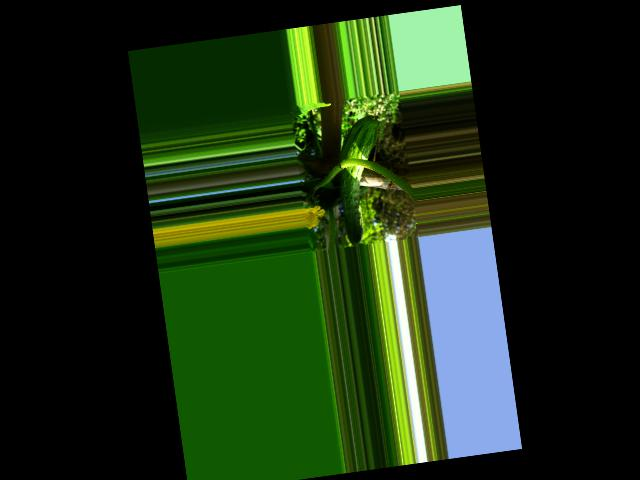cucumber: (330, 114, 394, 247)
